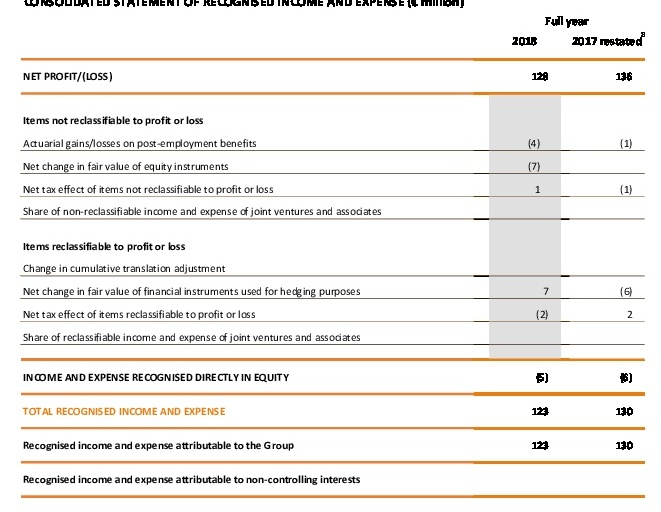table: (0, 0, 661, 512)
